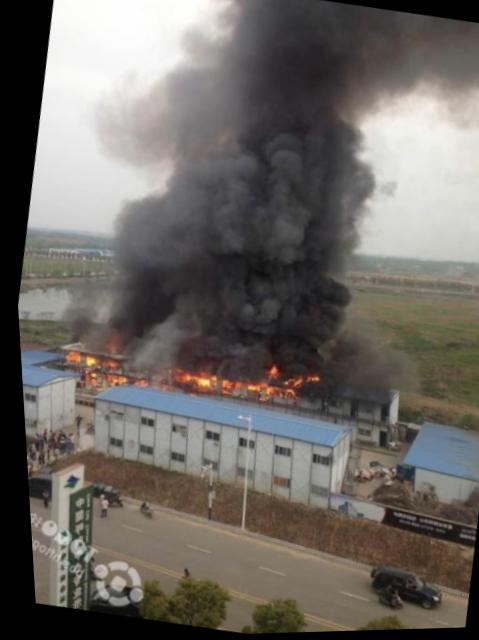fire: (191, 372, 209, 389), (261, 363, 276, 381), (59, 348, 78, 362), (216, 380, 232, 395), (173, 372, 193, 382), (279, 379, 297, 390), (78, 355, 92, 366), (302, 373, 317, 383), (241, 383, 256, 393), (230, 379, 241, 390), (253, 380, 265, 390), (279, 389, 293, 397), (262, 385, 273, 395)
